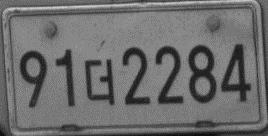1: (51, 48, 81, 108)
2: (153, 45, 185, 105), (120, 45, 151, 105)
4: (220, 43, 252, 103)
8: (187, 43, 218, 103)
9: (18, 49, 49, 109)
더: (83, 57, 116, 105)
